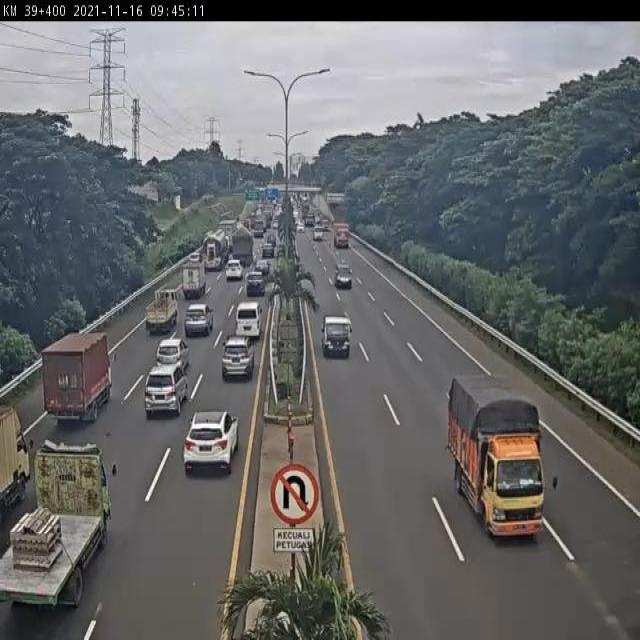car: (187, 411, 239, 472), (146, 362, 190, 414), (220, 339, 253, 384), (323, 312, 350, 357), (155, 337, 189, 371), (236, 302, 263, 342), (179, 309, 208, 343), (223, 257, 244, 283), (244, 275, 265, 300), (335, 264, 353, 287), (252, 260, 270, 280)
mid truck: (230, 228, 257, 271)
small truck: (42, 332, 112, 425), (145, 289, 181, 336), (178, 264, 203, 303)
truck-m-: (0, 440, 115, 617), (444, 378, 547, 546)
truck-xl-: (203, 230, 228, 270)
